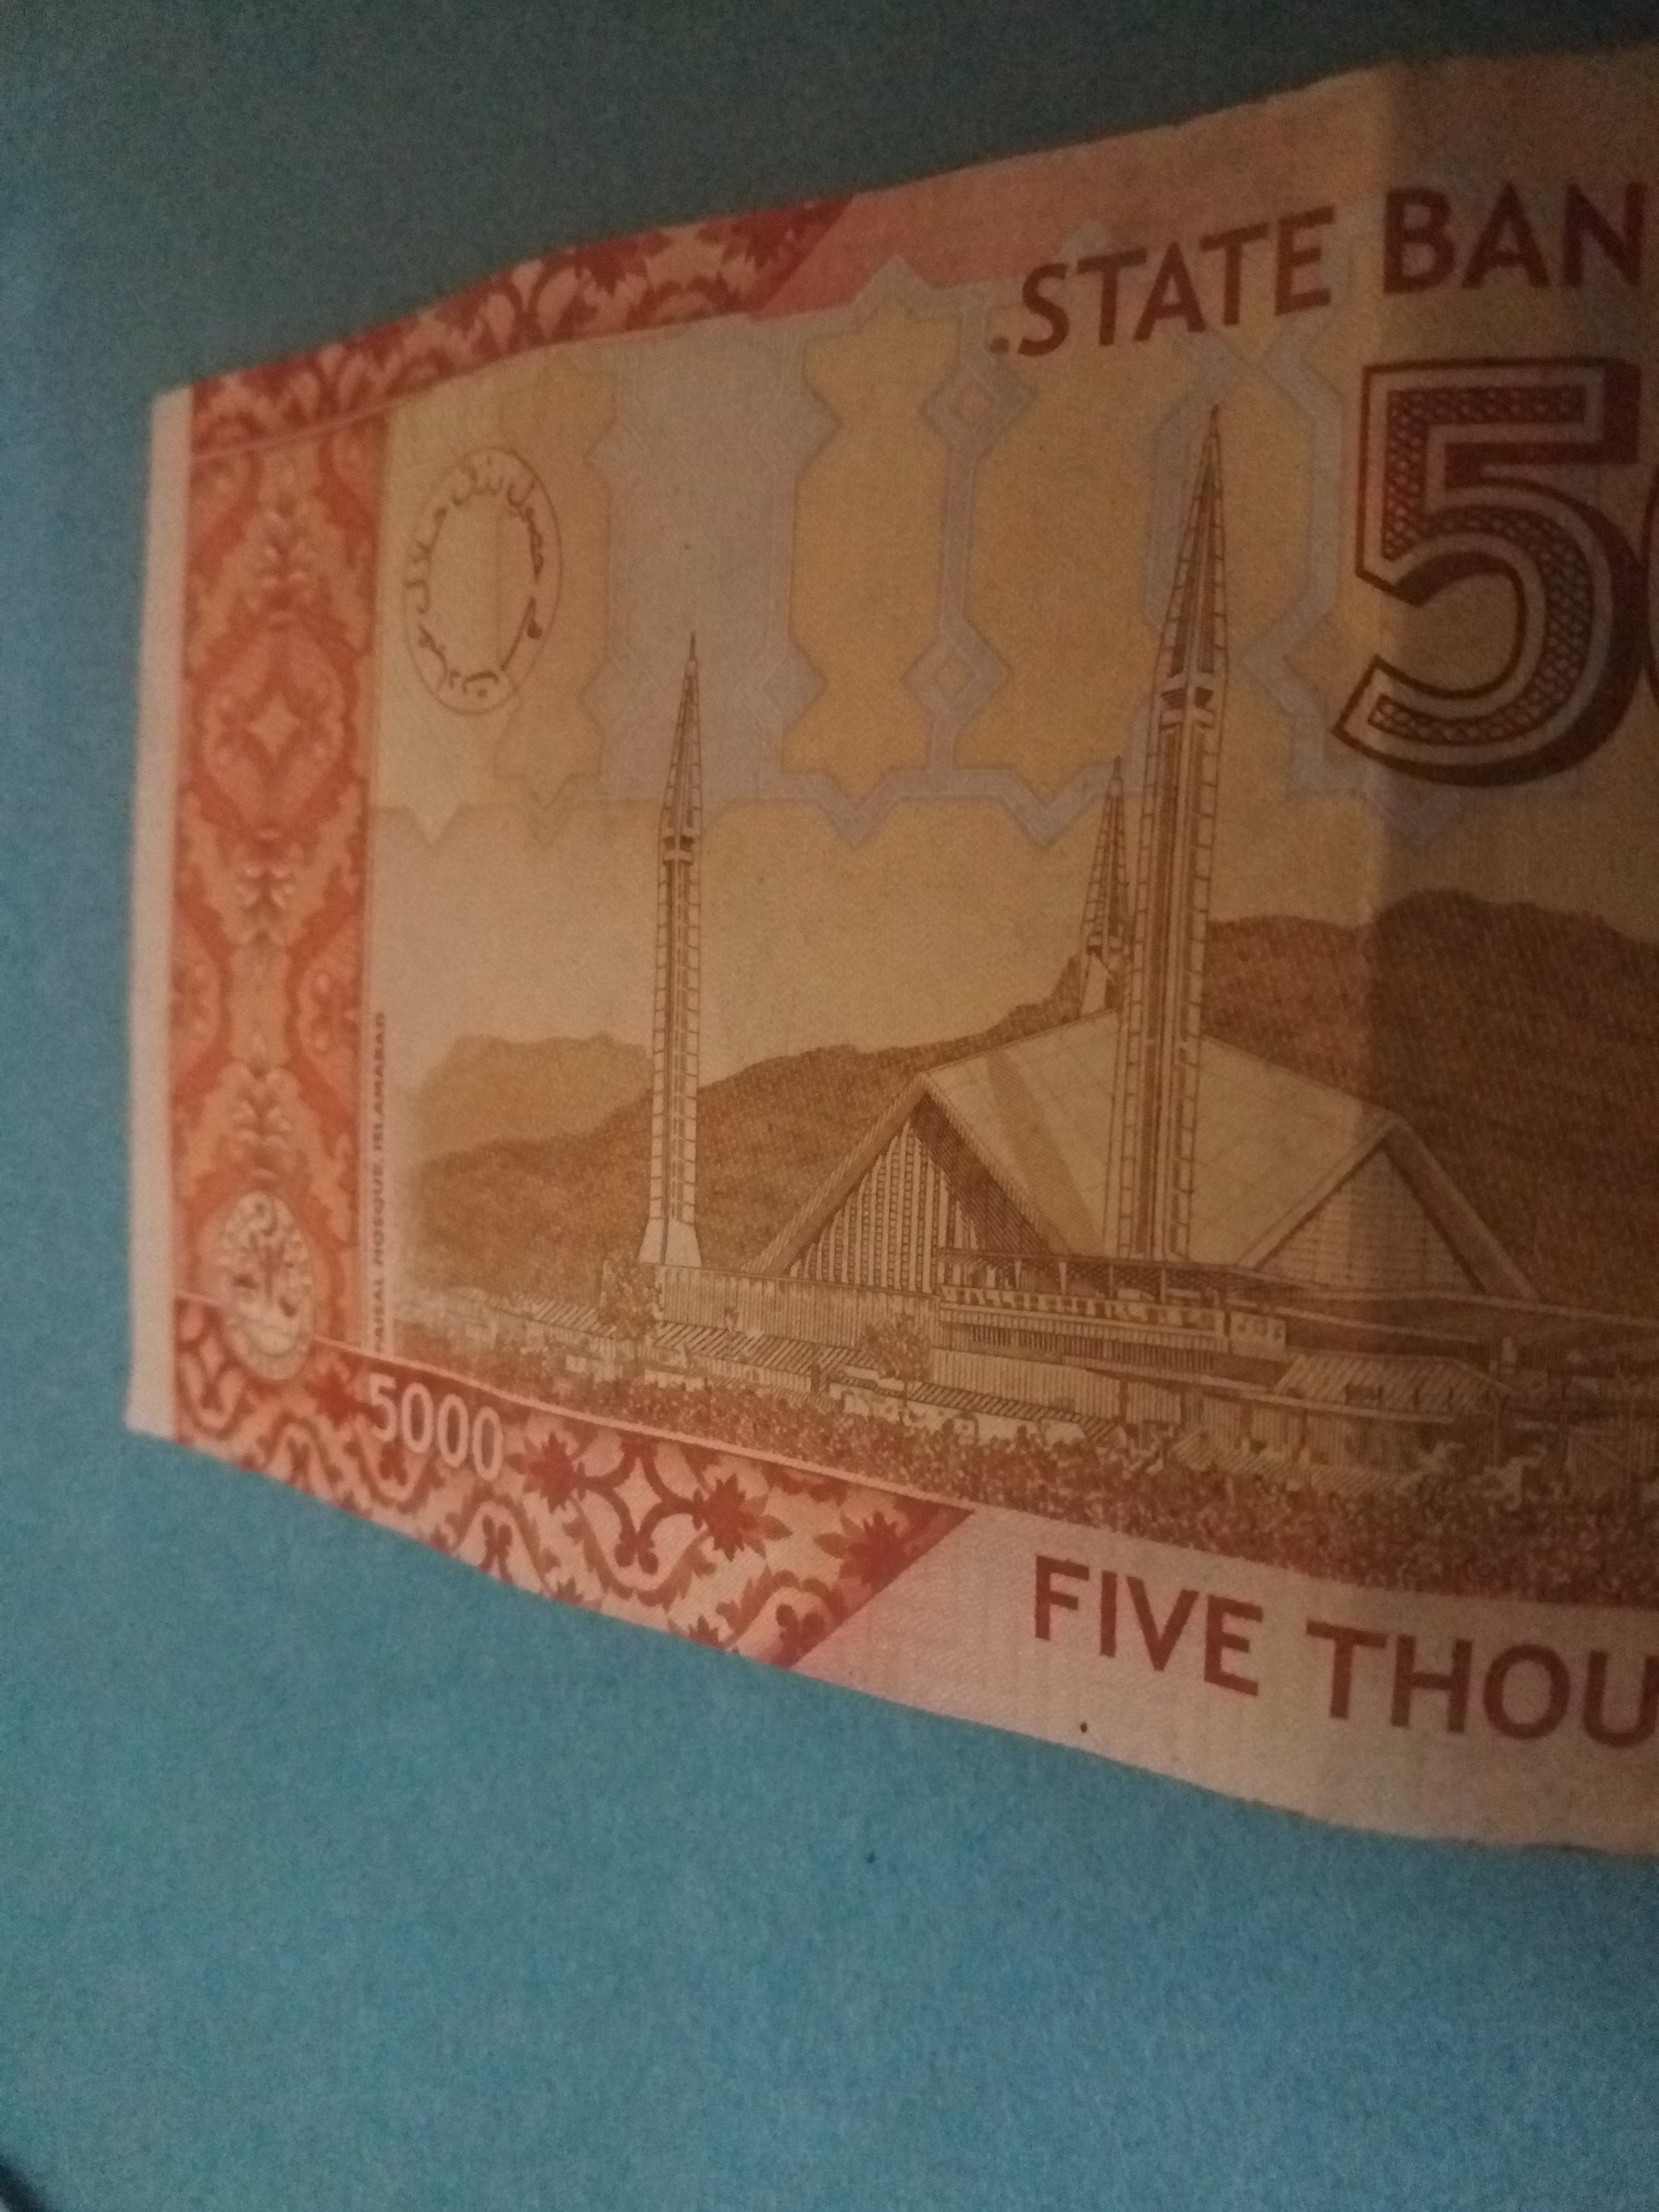5000 rupee: (118, 0, 1649, 1844)
